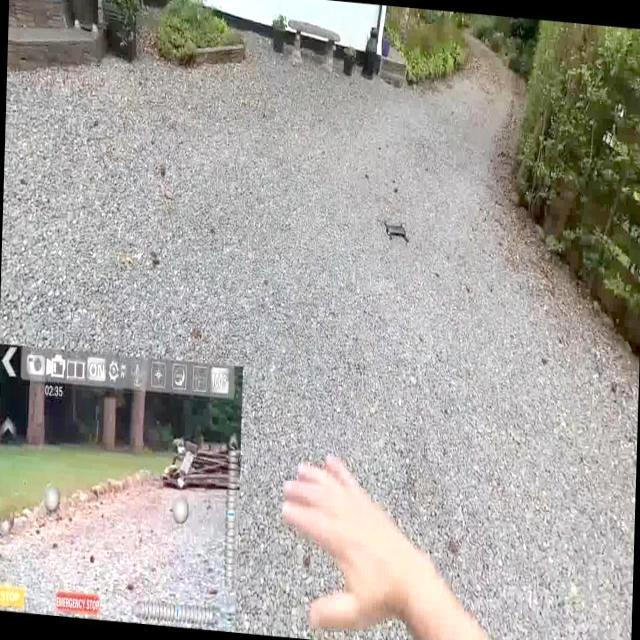drone: (377, 212, 415, 248)
